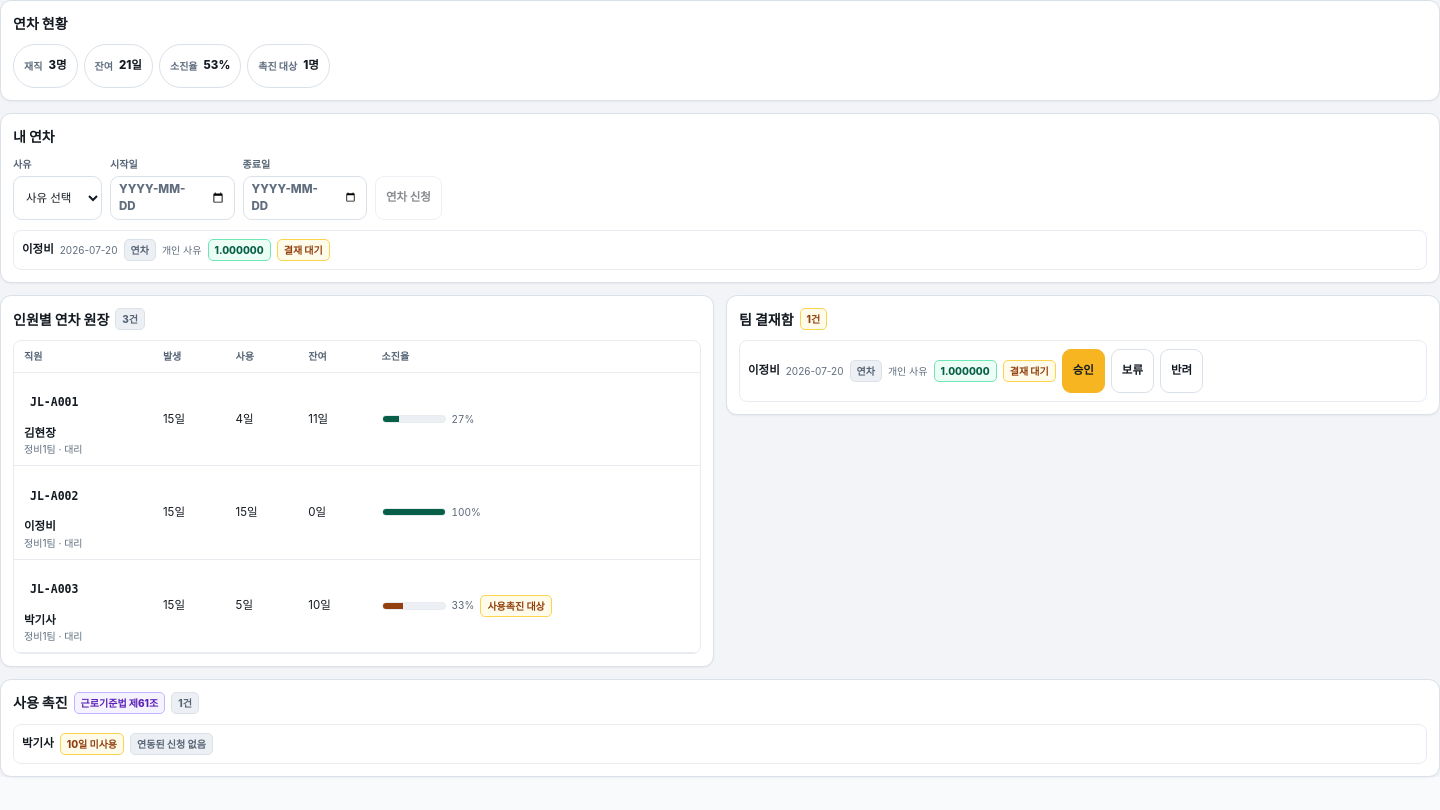
Test: LeaveConsole (레인1 leave 카드 존, real-wired) › keeps a stale decision pending and reports the request-version conflict
Click the button "승인" at (1083, 371), box [1062,349,1105,393]
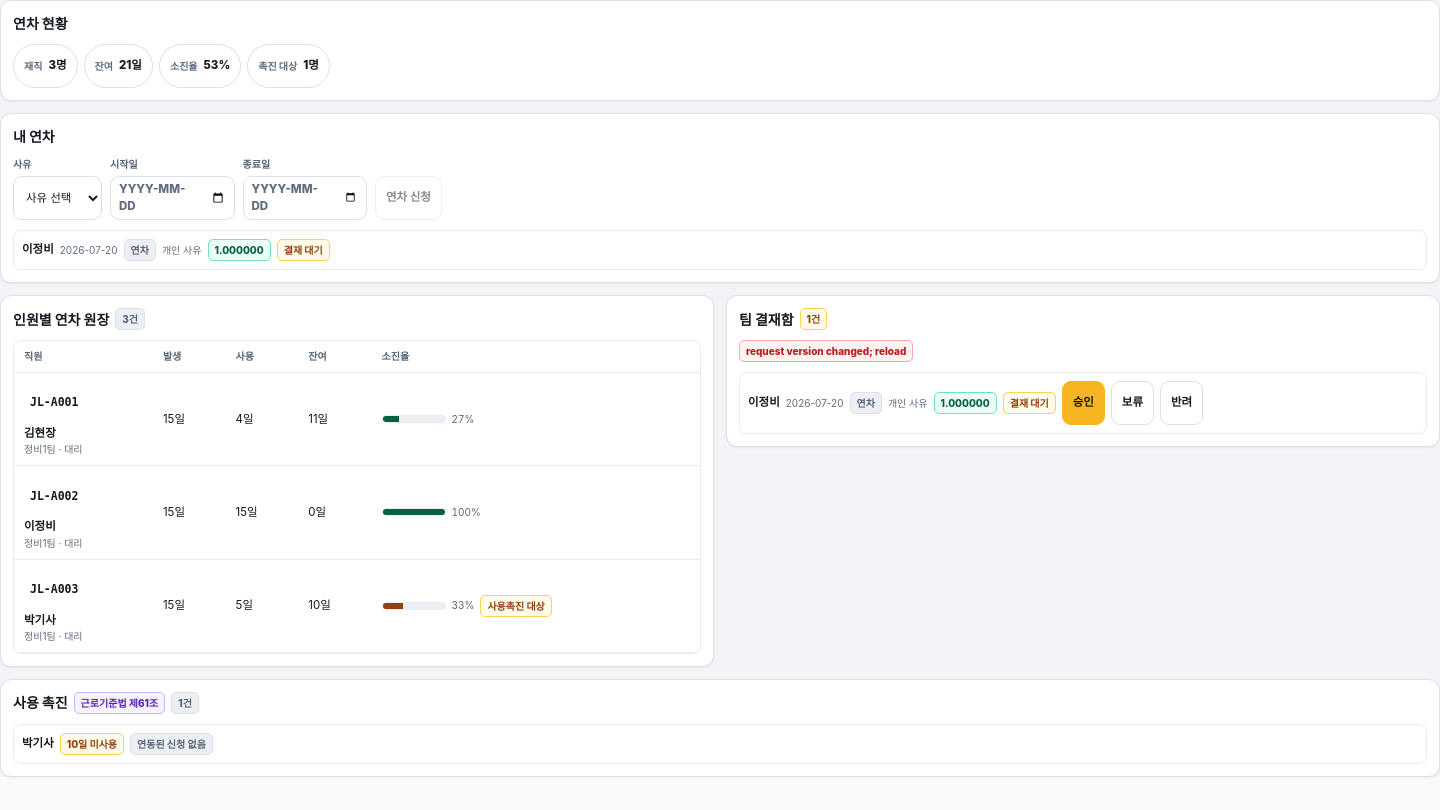
Check: the text "request version changed; reload" is shown, box [739,340,913,362]
